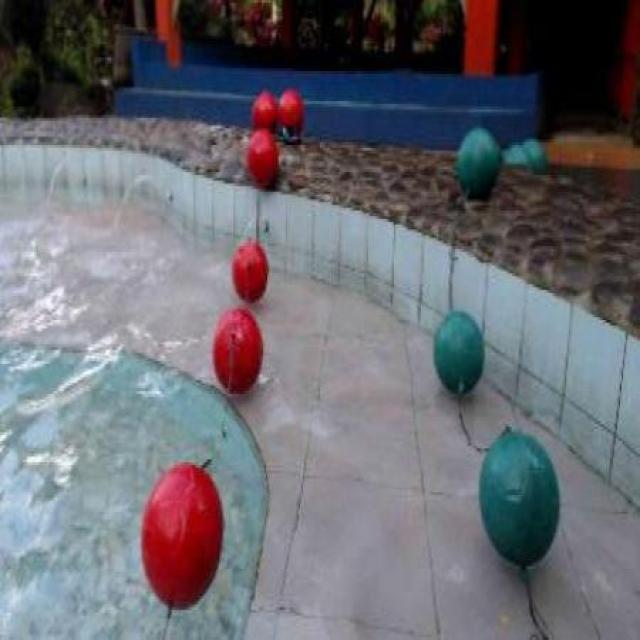buoy: (140, 465, 223, 607), (477, 425, 560, 565), (432, 310, 485, 395), (212, 306, 262, 394), (456, 124, 498, 198), (230, 237, 268, 299), (244, 127, 278, 184), (250, 89, 280, 136), (278, 87, 304, 132)
